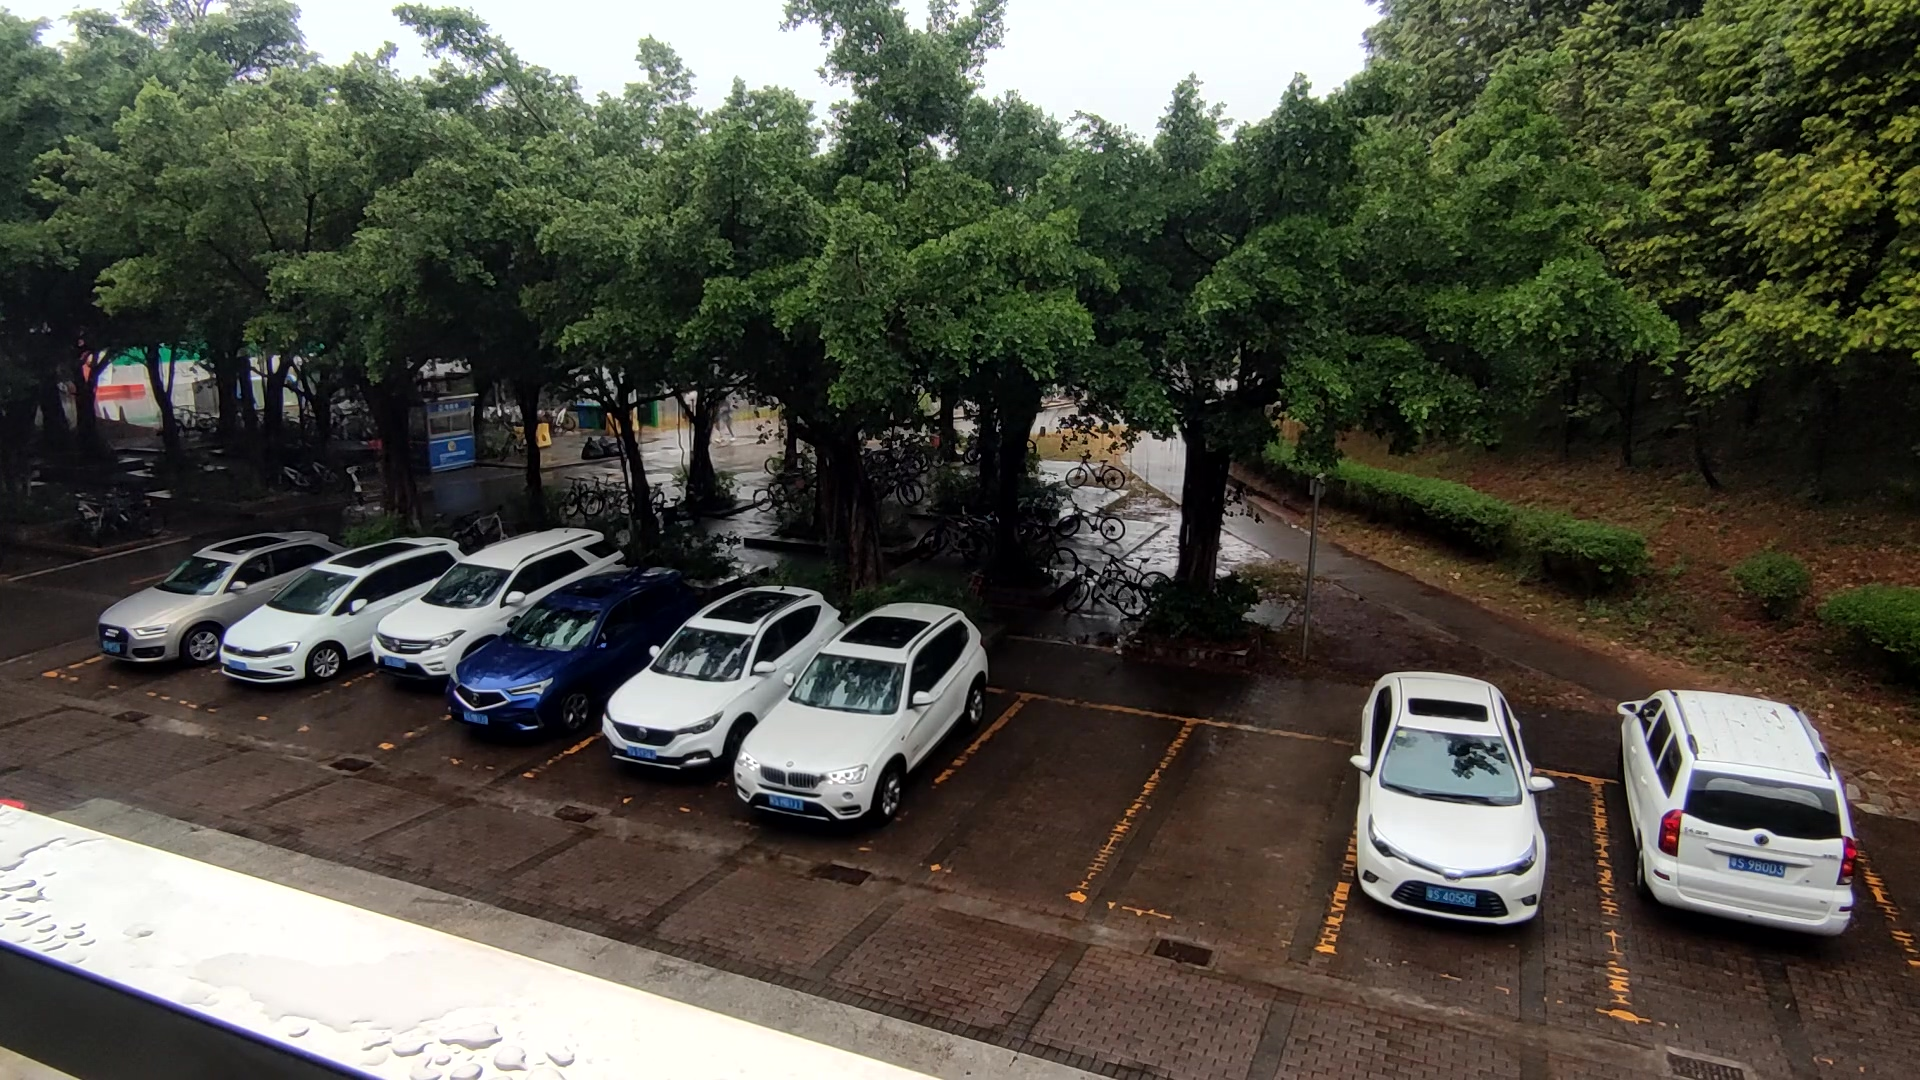space-empty: (1071, 694, 1389, 959), (862, 655, 1197, 886)
space-occupied: (1313, 731, 1655, 1009), (1571, 752, 1902, 1038), (692, 624, 1029, 847), (376, 588, 694, 781), (516, 611, 827, 802), (154, 566, 468, 713), (265, 572, 525, 740)
